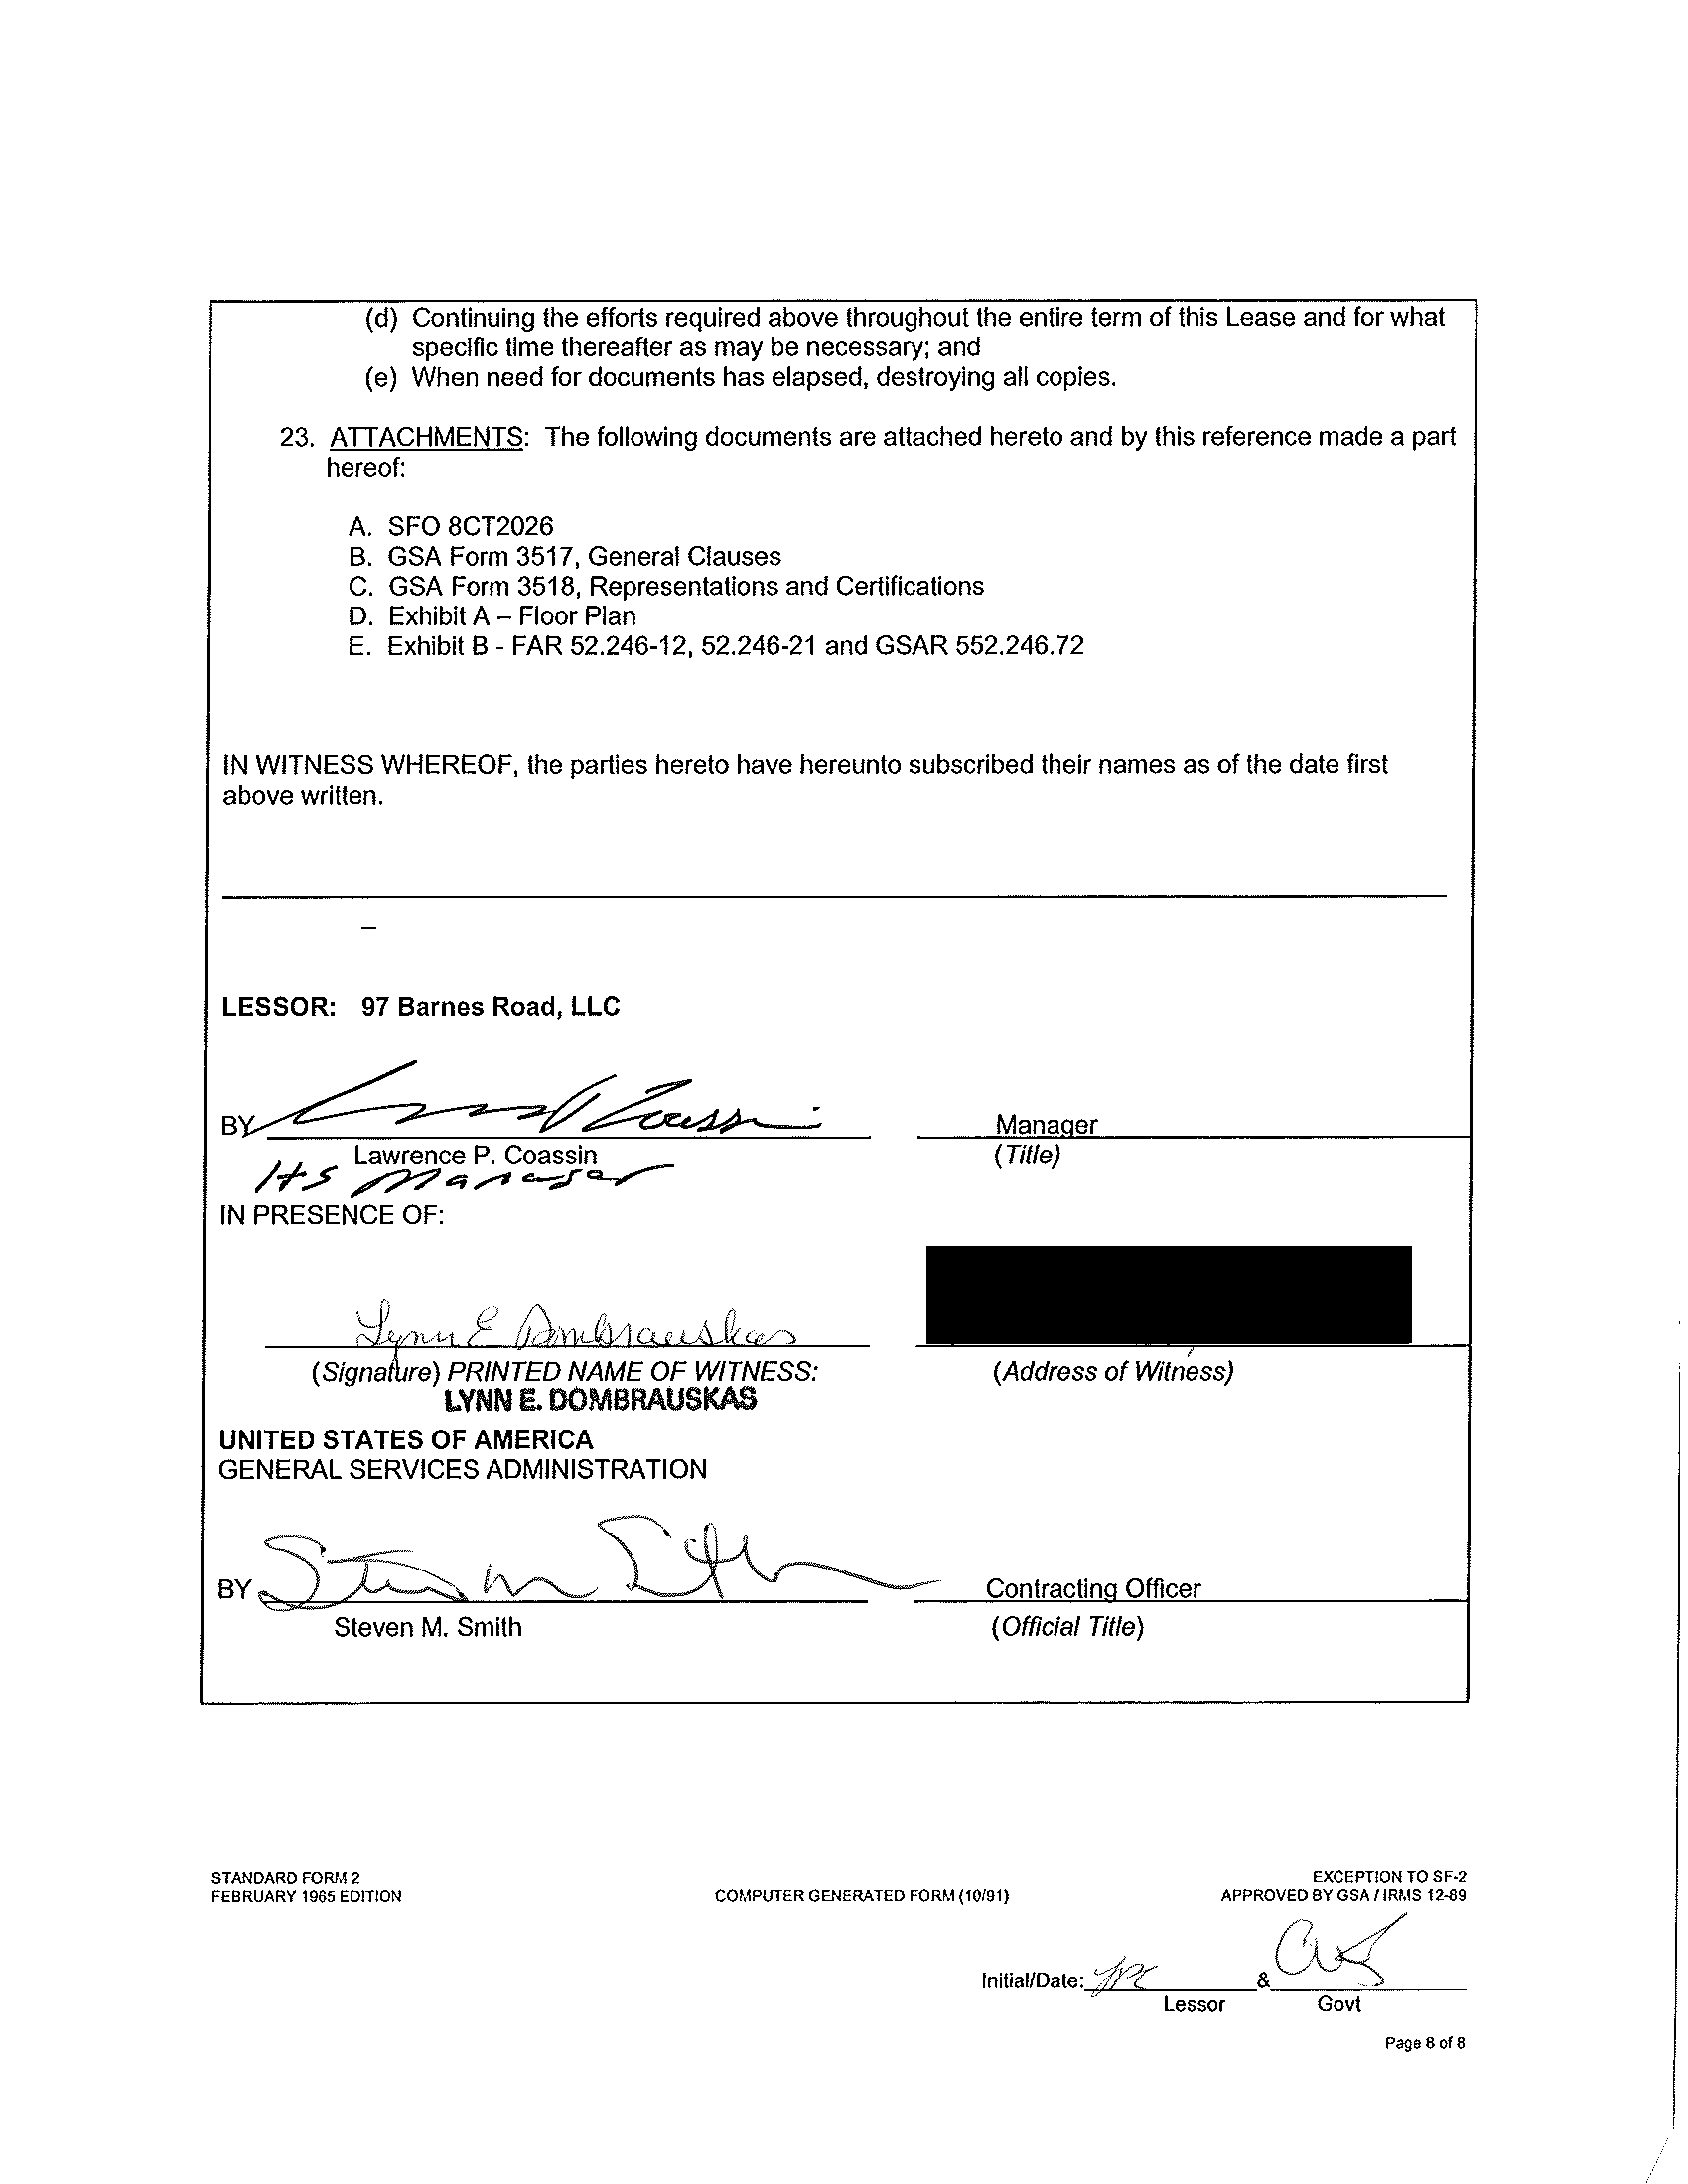handwritten: (255, 1494, 945, 1620), (250, 1039, 844, 1136), (344, 1287, 805, 1354), (243, 1152, 681, 1198), (1261, 1909, 1434, 1991), (1085, 1922, 1163, 1982)
